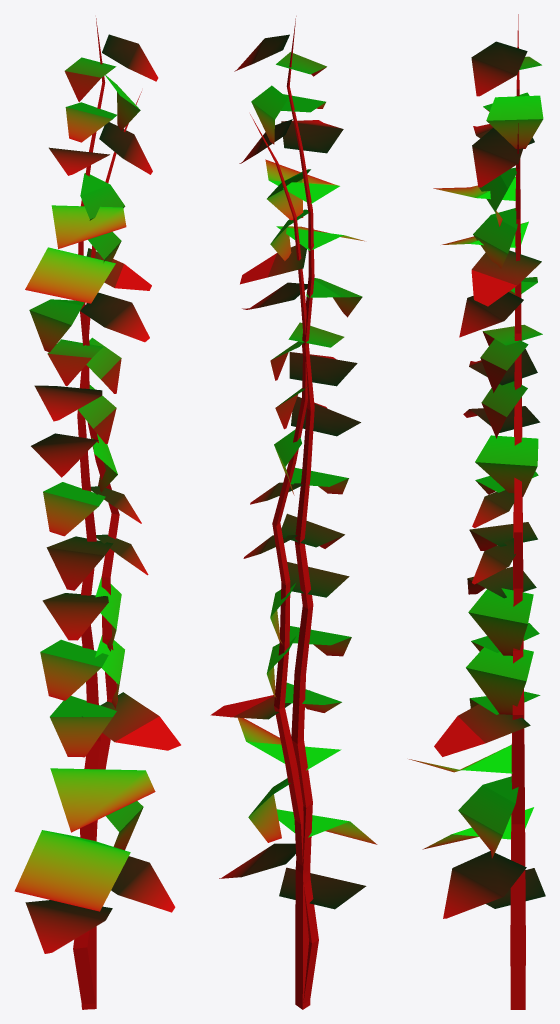
File: Lierre7_LOD1.fbx
3 views of the same model, side by side, from view 1: azimuth 30°, elevation 25°; view 2: azimuth 210°, elevation 25°; view 3: azimuth 270°, elevation 25° (orthographic).
Parts seen in each view (by area): view 1: _441b_Var9_LOD2; view 2: _441b_Var9_LOD2; view 3: _441b_Var9_LOD2.
Boxes of the visible parts, x1=… form: _441b_Var9_LOD2: x1=14, y1=18, x2=180, y2=1009; _441b_Var9_LOD2: x1=210, y1=16, x2=377, y2=1009; _441b_Var9_LOD2: x1=409, y1=14, x2=545, y2=1009.
Size of the model in its own units: 12.81 by 90.73 by 11.51.
